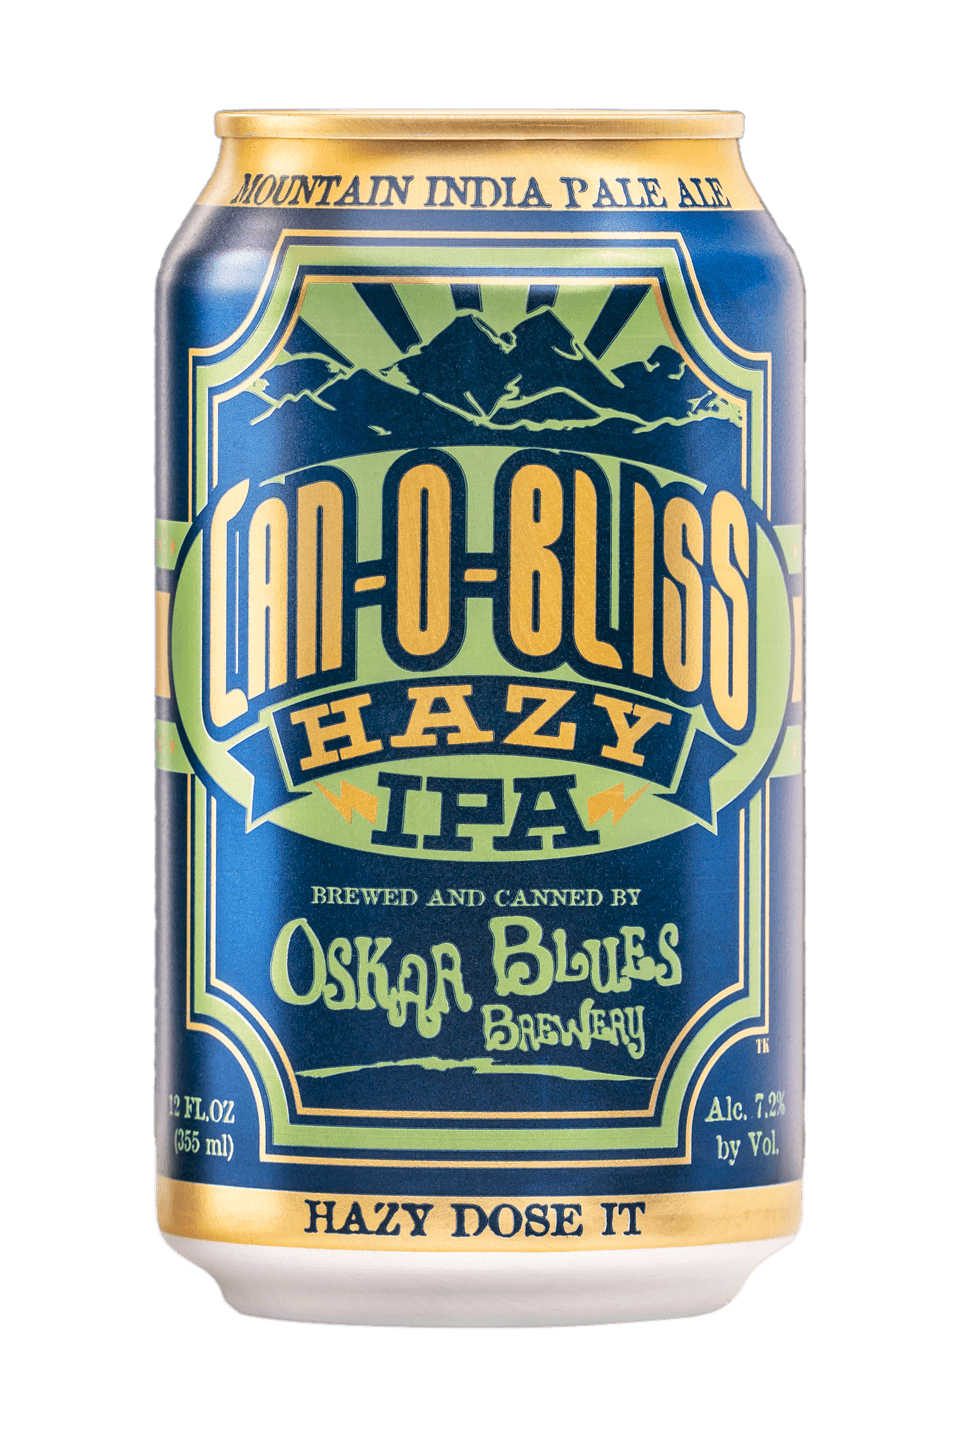beer can: (139, 101, 815, 1346)
